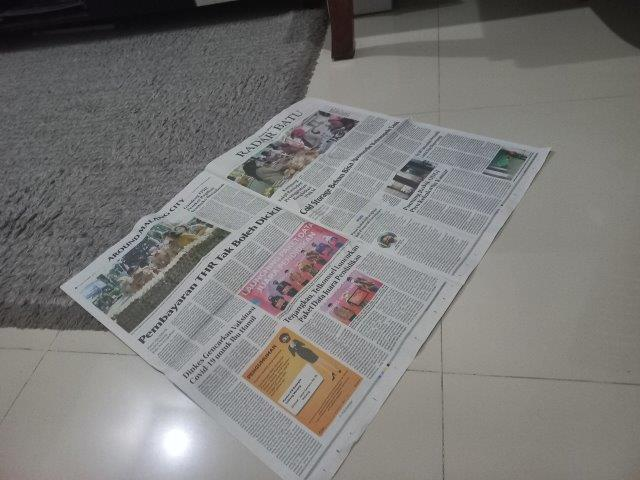kertas: (60, 97, 554, 480)
